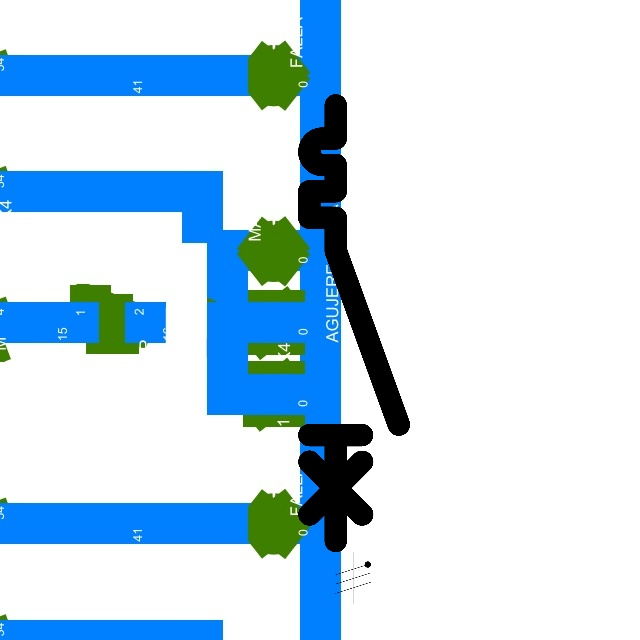interruptor_termomagnetico: (298, 94, 410, 552)
